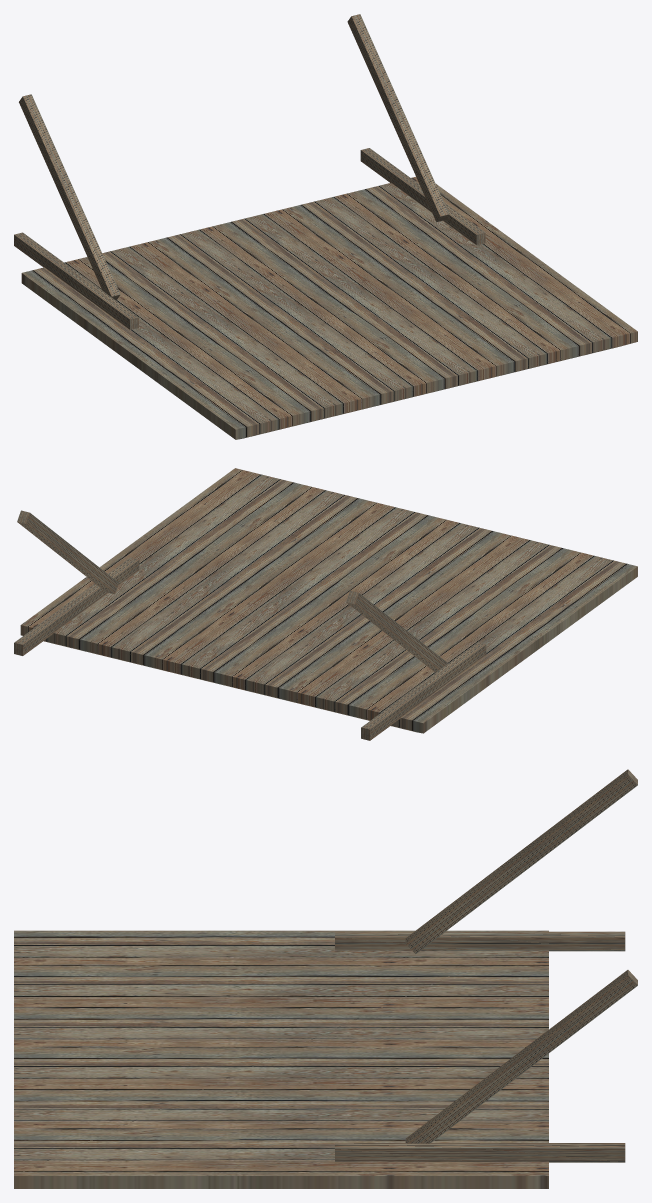
File: urbanwood01billboardd_wtf.obj
3 renders of one model, top to bottom at view 1: azimuth 30°, elevation 25°; view 2: azimuth 150°, elevation 25°; view 3: azimuth 270°, elevation 25°, orthographic. The views are drawn at different scales.
Visible parts, largest first — view 1: group4; view 2: group4; view 3: group4.
Part boxes in pixels (left/top/right/bottom): group4: left=14, top=14, right=637, bottom=439; group4: left=14, top=468, right=637, bottom=740; group4: left=14, top=769, right=637, bottom=1188.
Size of the model in its own units: 614 by 235 by 660.
